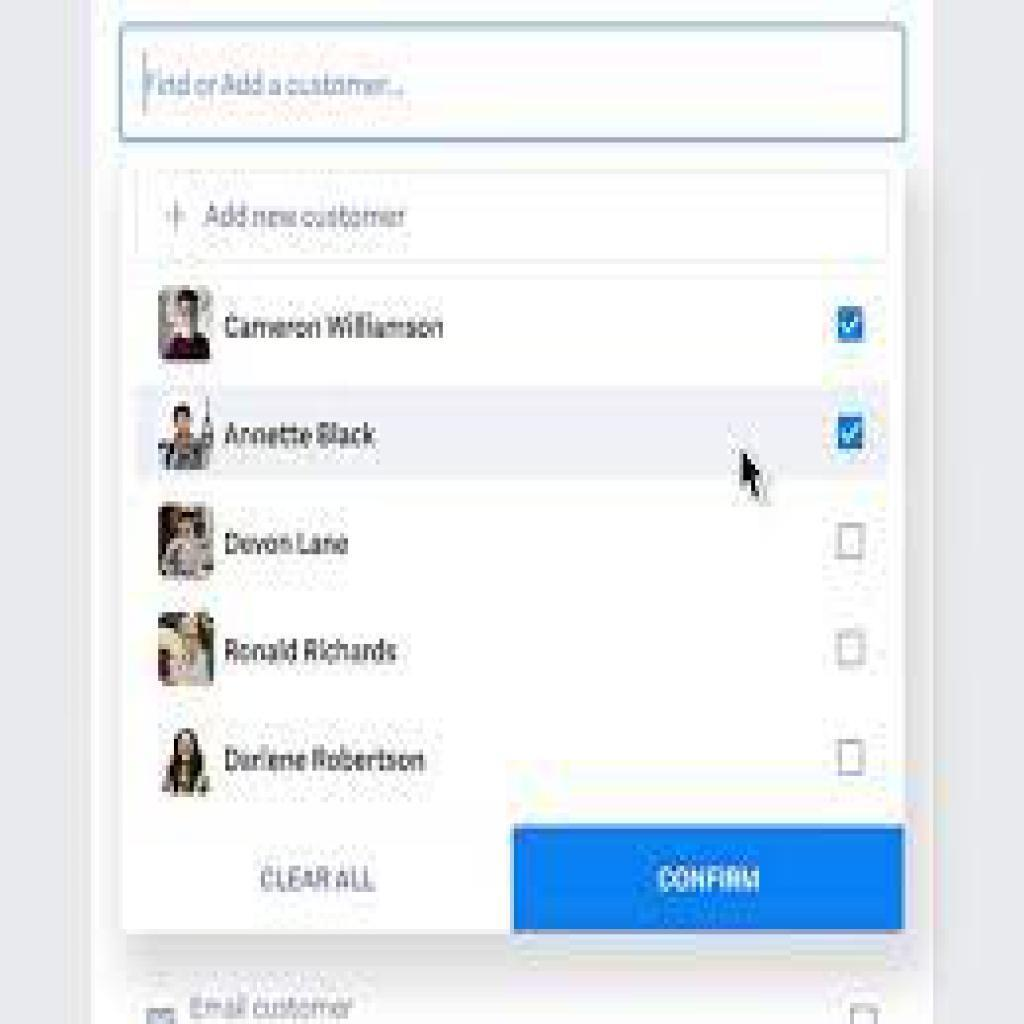button: (136, 170, 892, 263), (515, 825, 905, 933)
checkbox: (835, 412, 866, 454), (836, 523, 869, 560), (838, 739, 867, 779), (838, 633, 868, 669), (837, 308, 865, 344)
input: (120, 25, 908, 140)
label: (254, 857, 389, 901)
